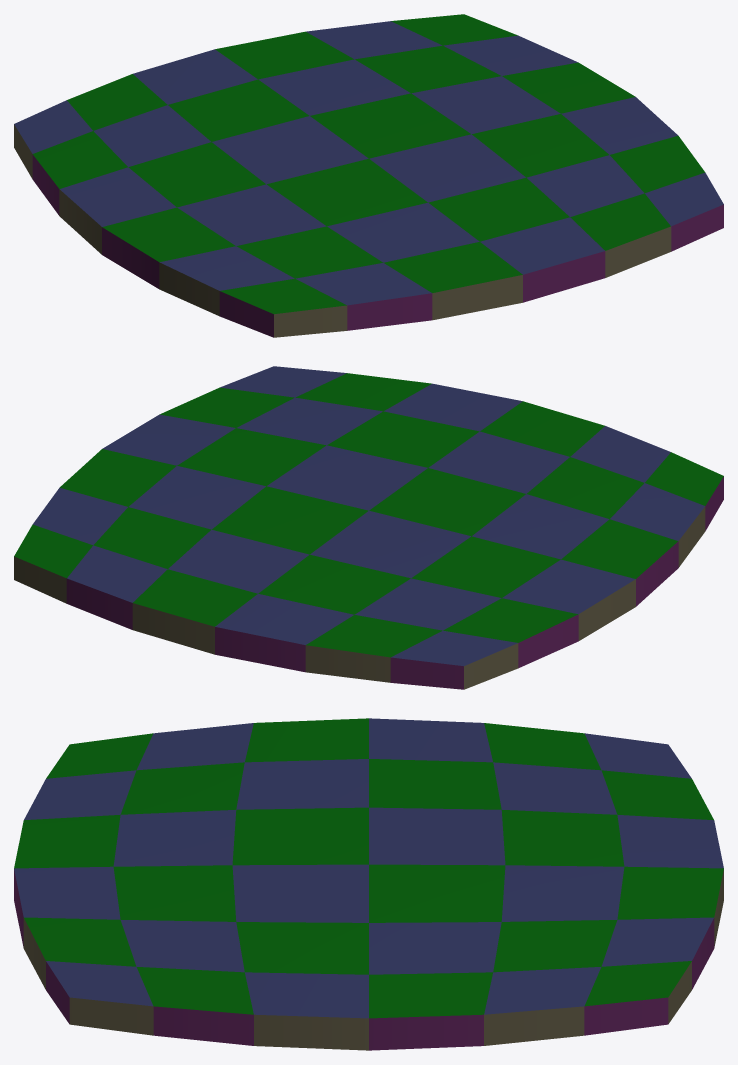
Rendered from FPV_Base.fbx.
3 views of the same model, one above another, from view 1: azimuth 30°, elevation 25°; view 2: azimuth 150°, elevation 25°; view 3: azimuth 270°, elevation 25° (orthographic). The views are drawn at different scales.
Parts seen in each view (by area): view 1: FPV_Base; view 2: FPV_Base; view 3: FPV_Base.
Boxes of the visible parts, x1,y1,x2,y2 form: FPV_Base: [14, 14, 723, 337]; FPV_Base: [14, 366, 723, 689]; FPV_Base: [14, 718, 723, 1050].
Size of the model in its own units: 409 by 25.34 by 409.
